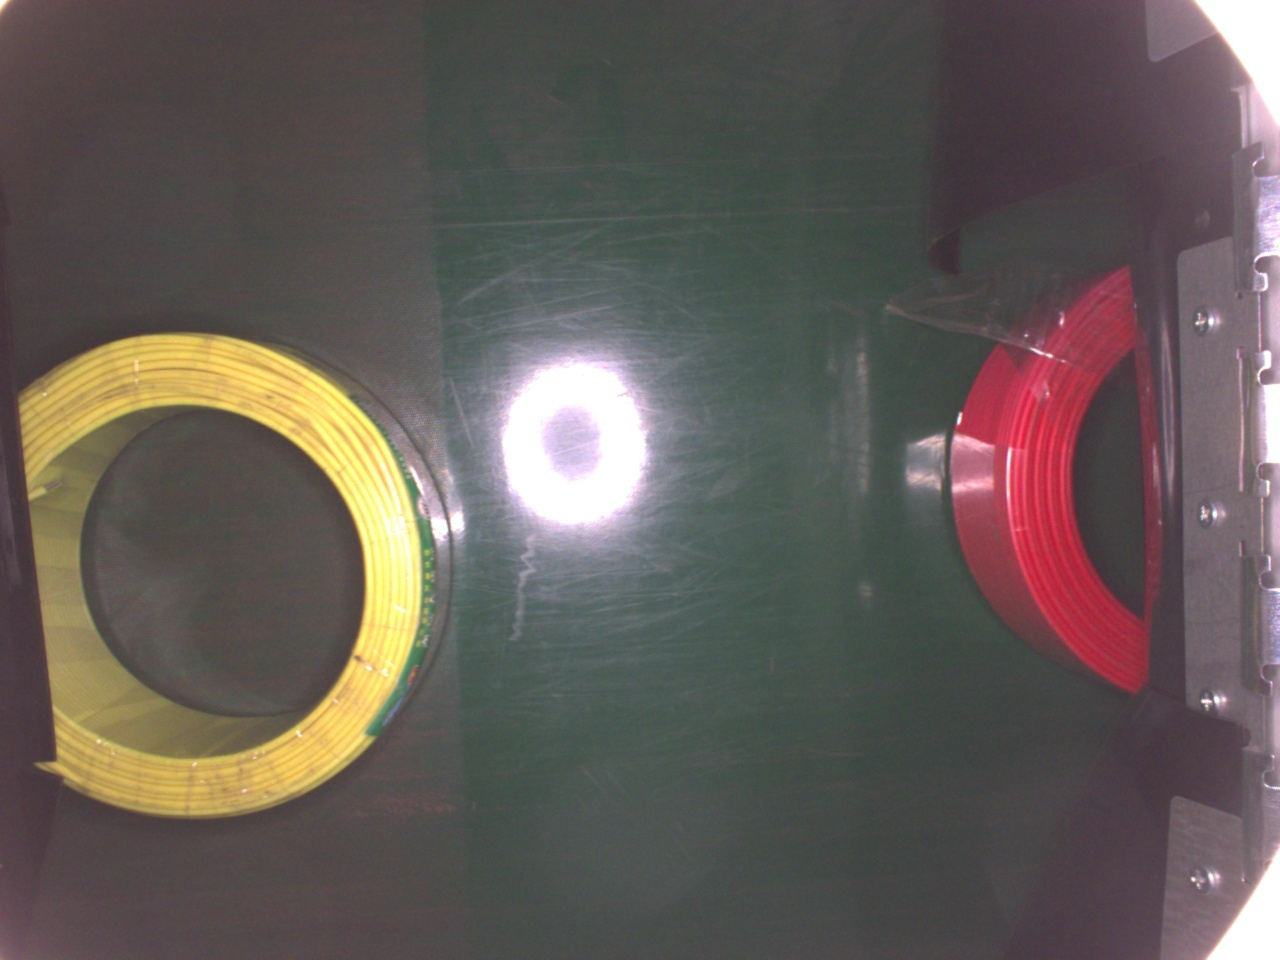red: (946, 261, 1152, 695)
yellow: (16, 327, 453, 815)
